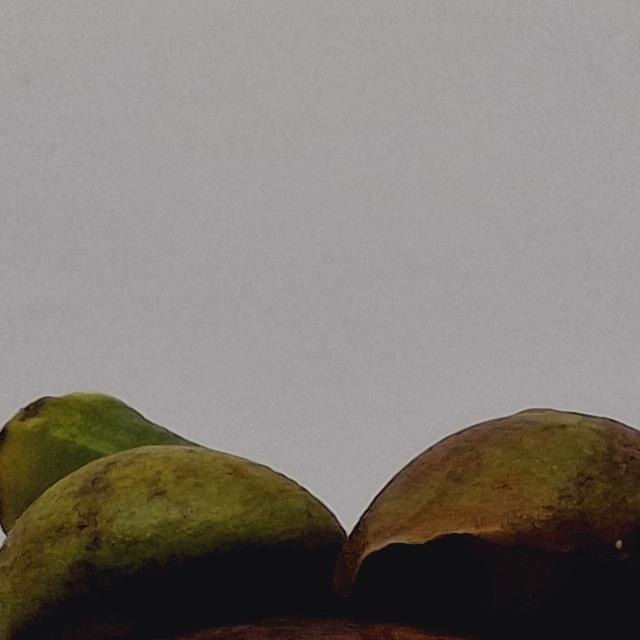mangosteen: (0, 330, 640, 640)
